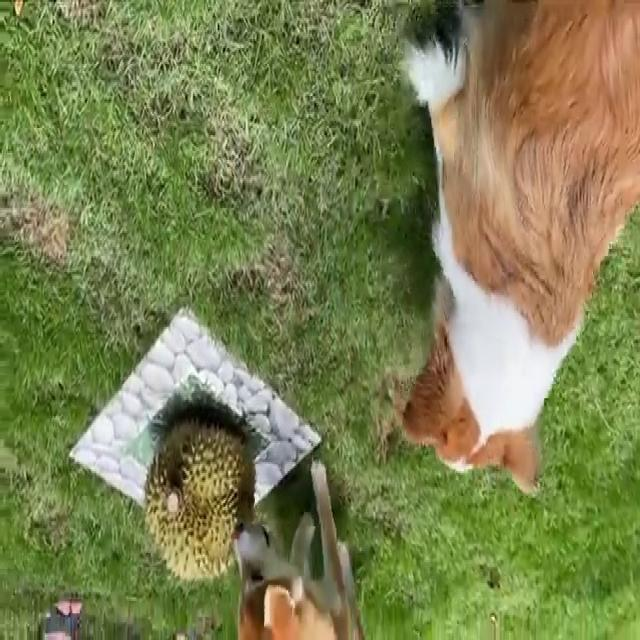durian: (143, 411, 259, 585)
